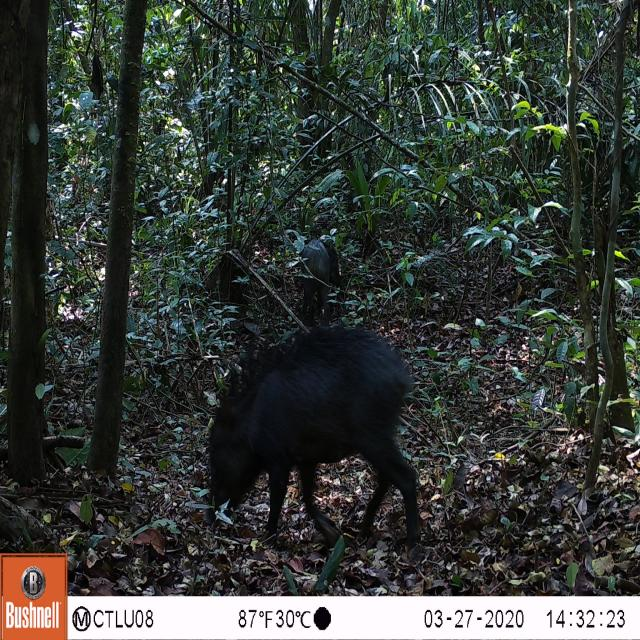Collared Peccary: (194, 313, 431, 566), (289, 221, 343, 308)
